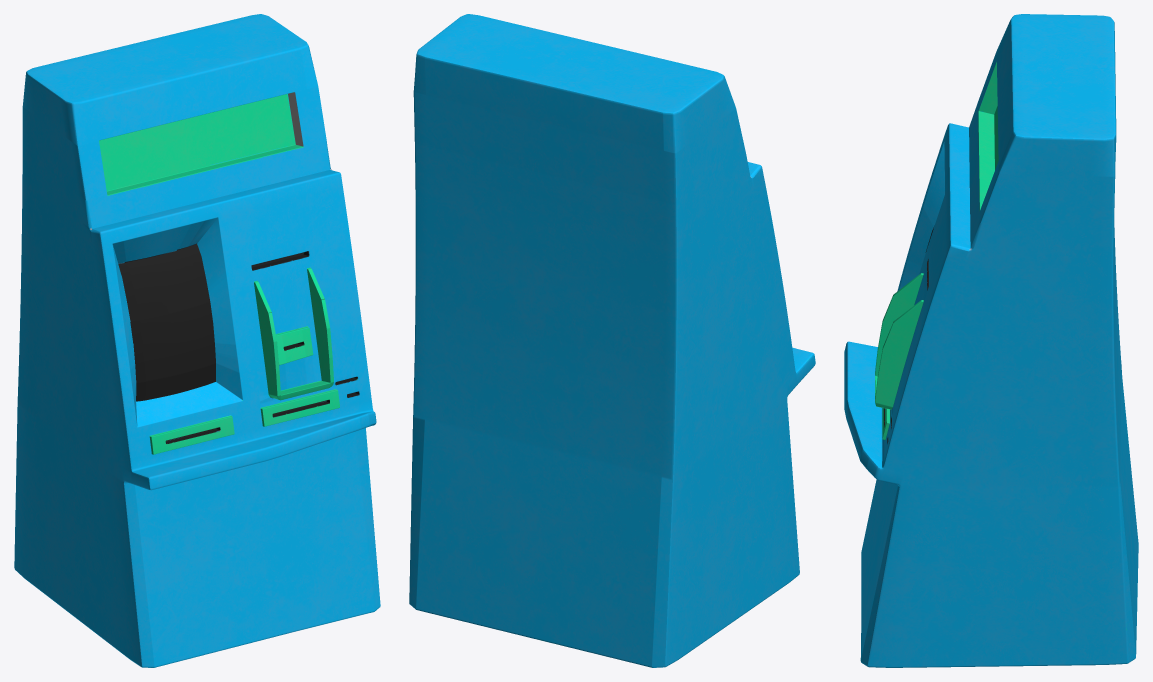
The model's file is BANK_Props_ATM.fbx.
3 renders of one model, left to right at view 1: azimuth 30°, elevation 25°; view 2: azimuth 150°, elevation 25°; view 3: azimuth 270°, elevation 25°, orthographic. The views are drawn at different scales.
Parts seen in each view (by area): view 1: atm; view 2: atm; view 3: atm.
Part boxes in pixels (box(x1,y1,x2,y2)): atm: box(14, 14, 380, 667); atm: box(409, 14, 815, 667); atm: box(844, 14, 1138, 667).
Bounding box in the file's own units: 101 × 203 × 101.
Materials: 1 (1 with a texture image).
